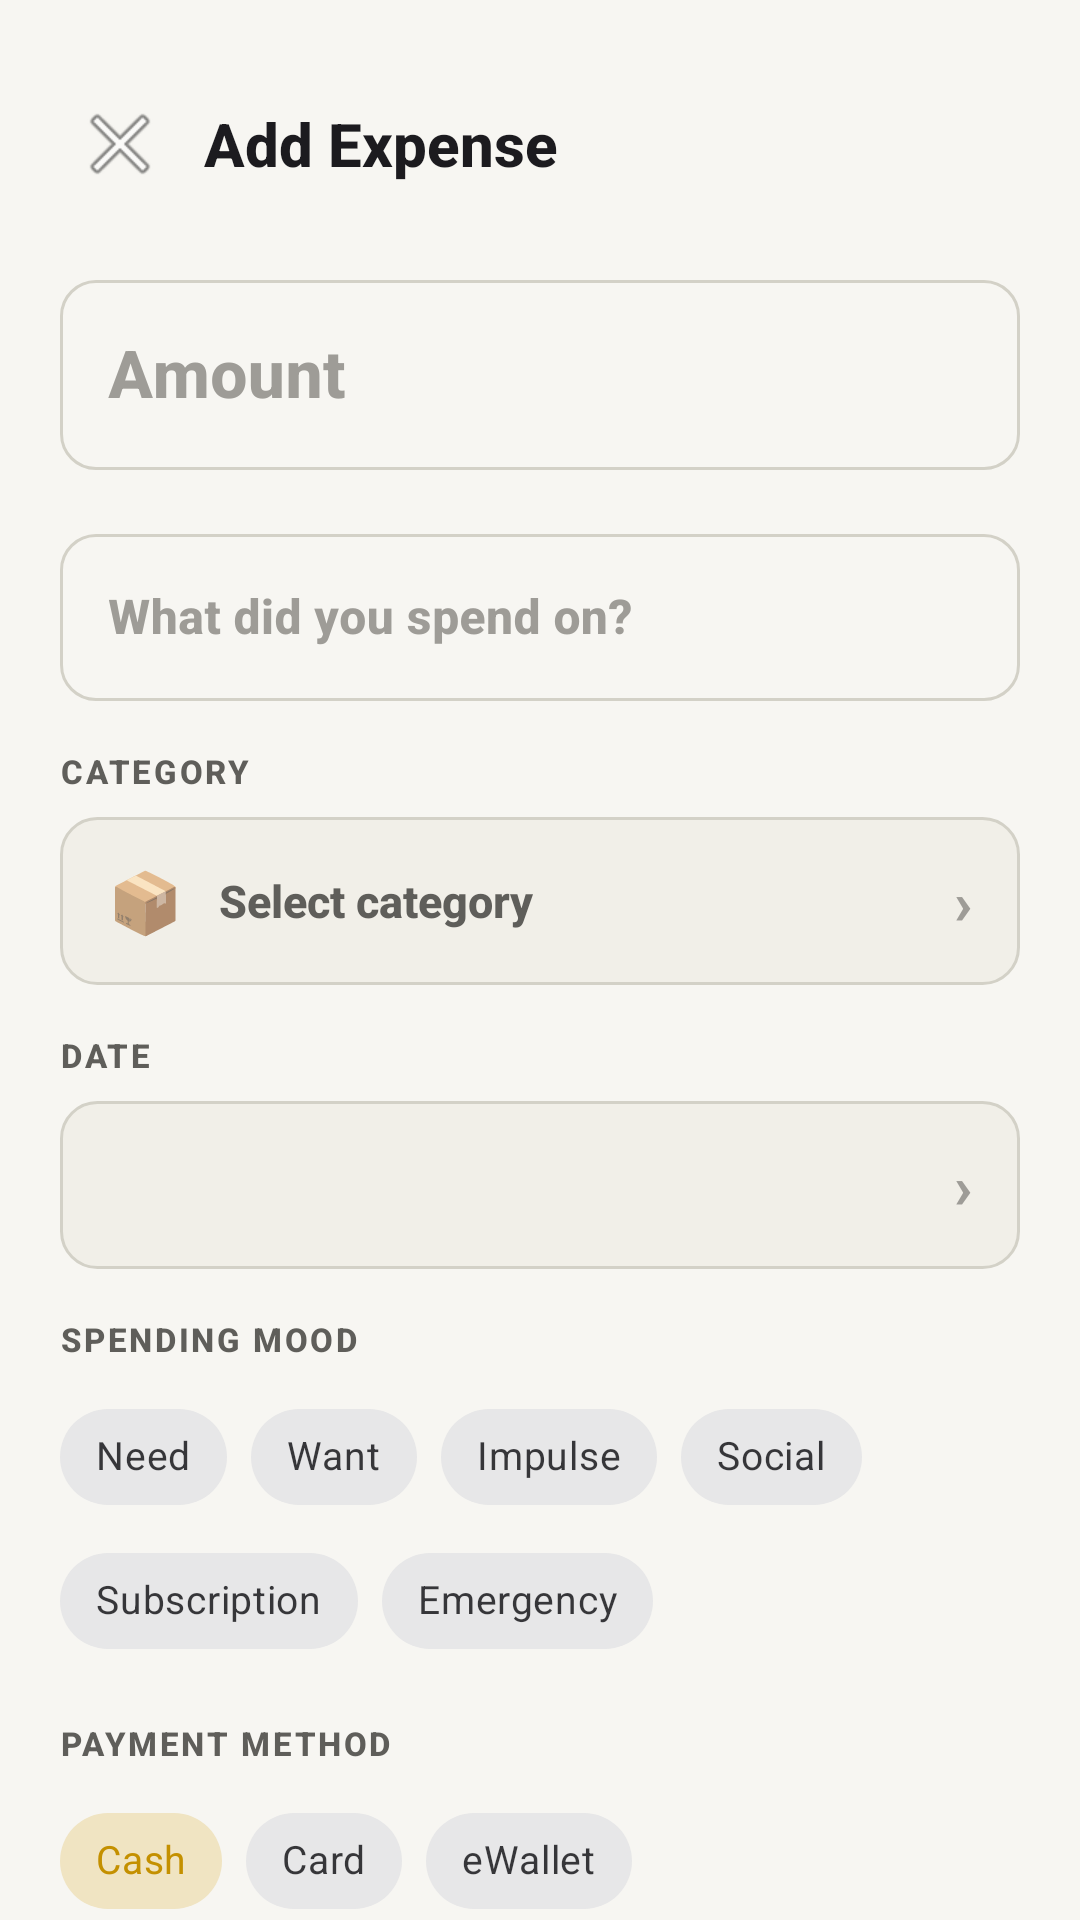

Screen size 1080x1920. Icon name, then its box in pixels as box(x1, y1, x2, y2):
close clear cancel: box(90, 114, 150, 174)
